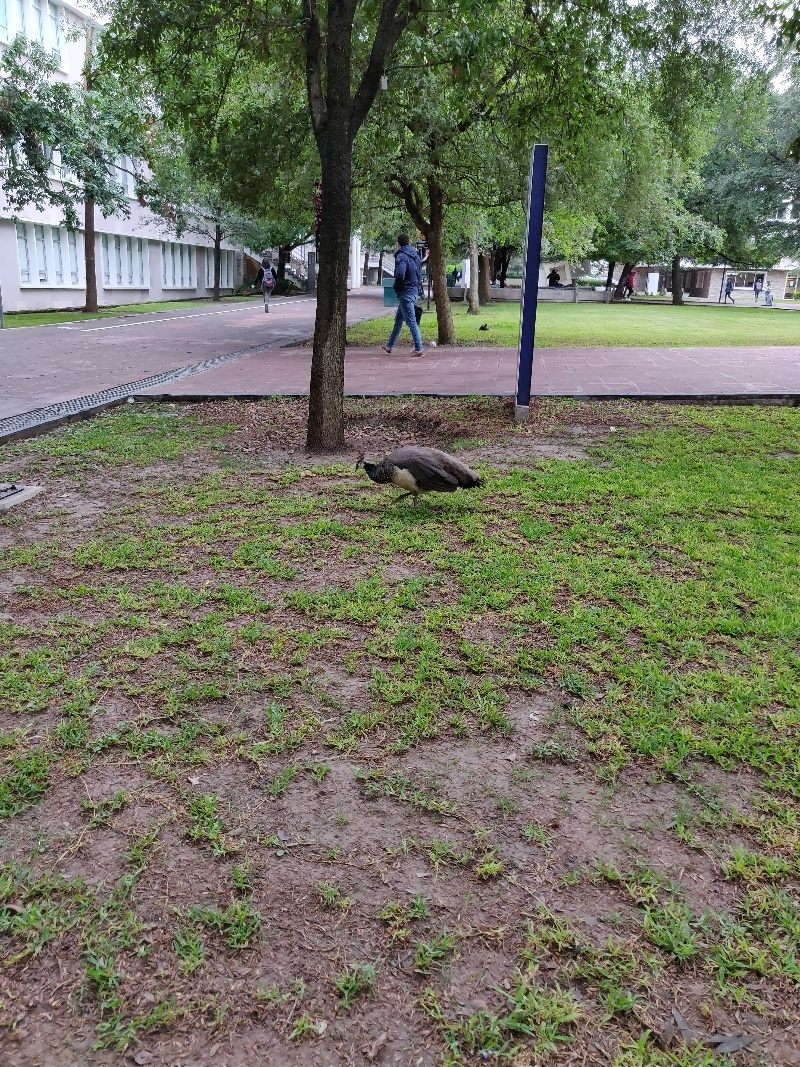pavoreal: (352, 445, 485, 519)
